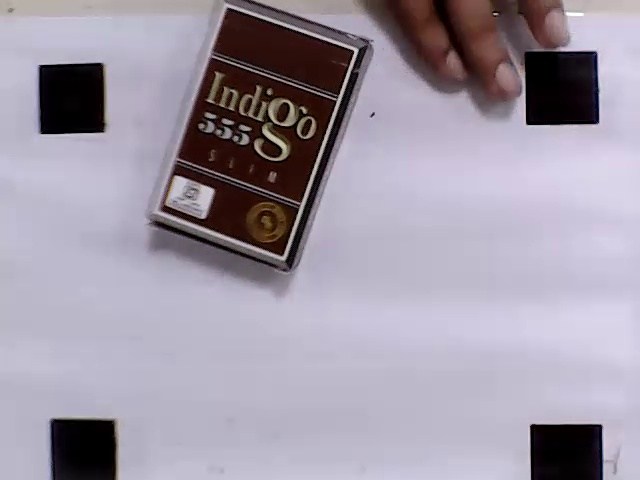BEX: (158, 4, 357, 258)
